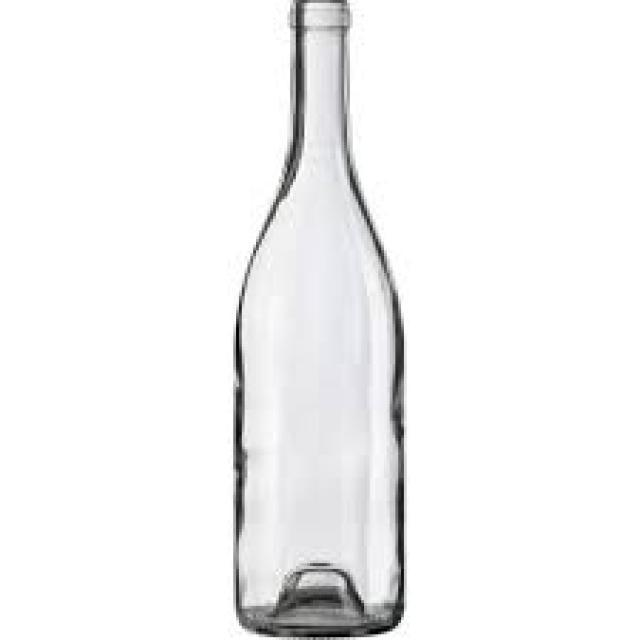Glass: (235, 0, 405, 634)
